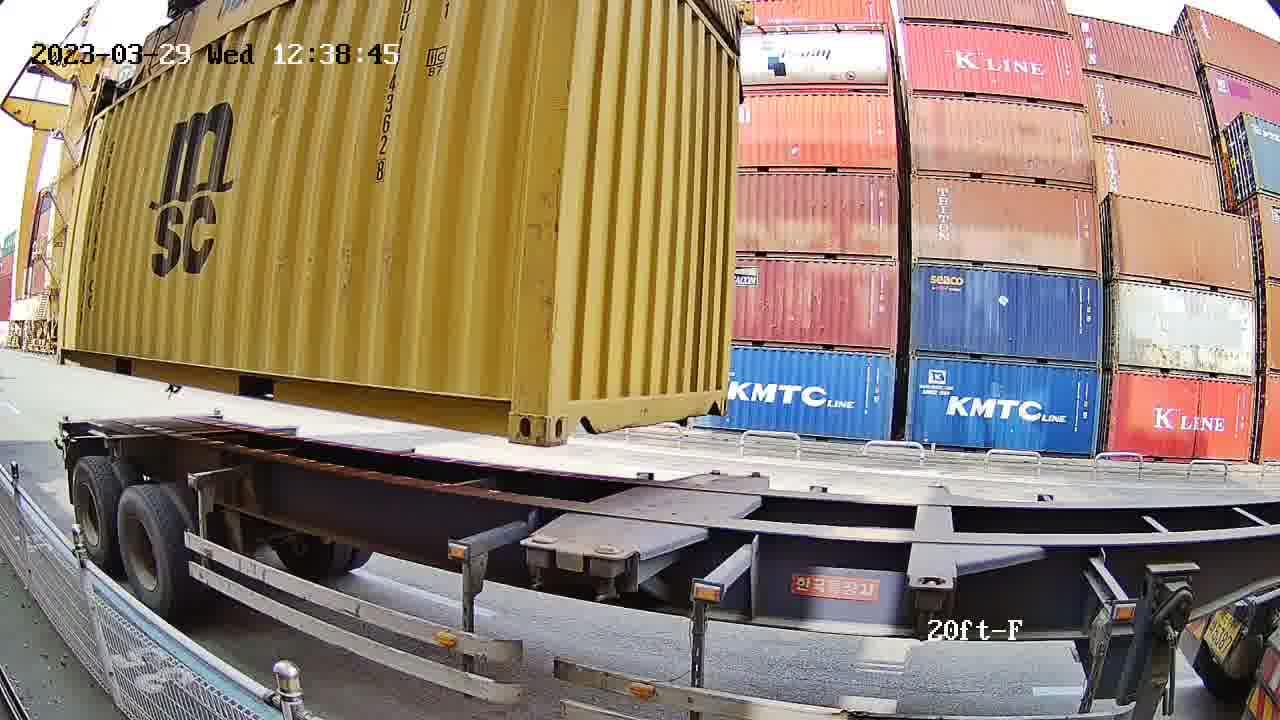Chassis: (522, 471, 722, 548), (592, 474, 766, 559)
Cone: (592, 545, 629, 601), (527, 534, 557, 589)
Hole_L: (544, 376, 603, 449)
Hole_R: (472, 370, 549, 447), (702, 379, 729, 415)
Tire: (118, 491, 171, 610), (74, 460, 114, 565)
